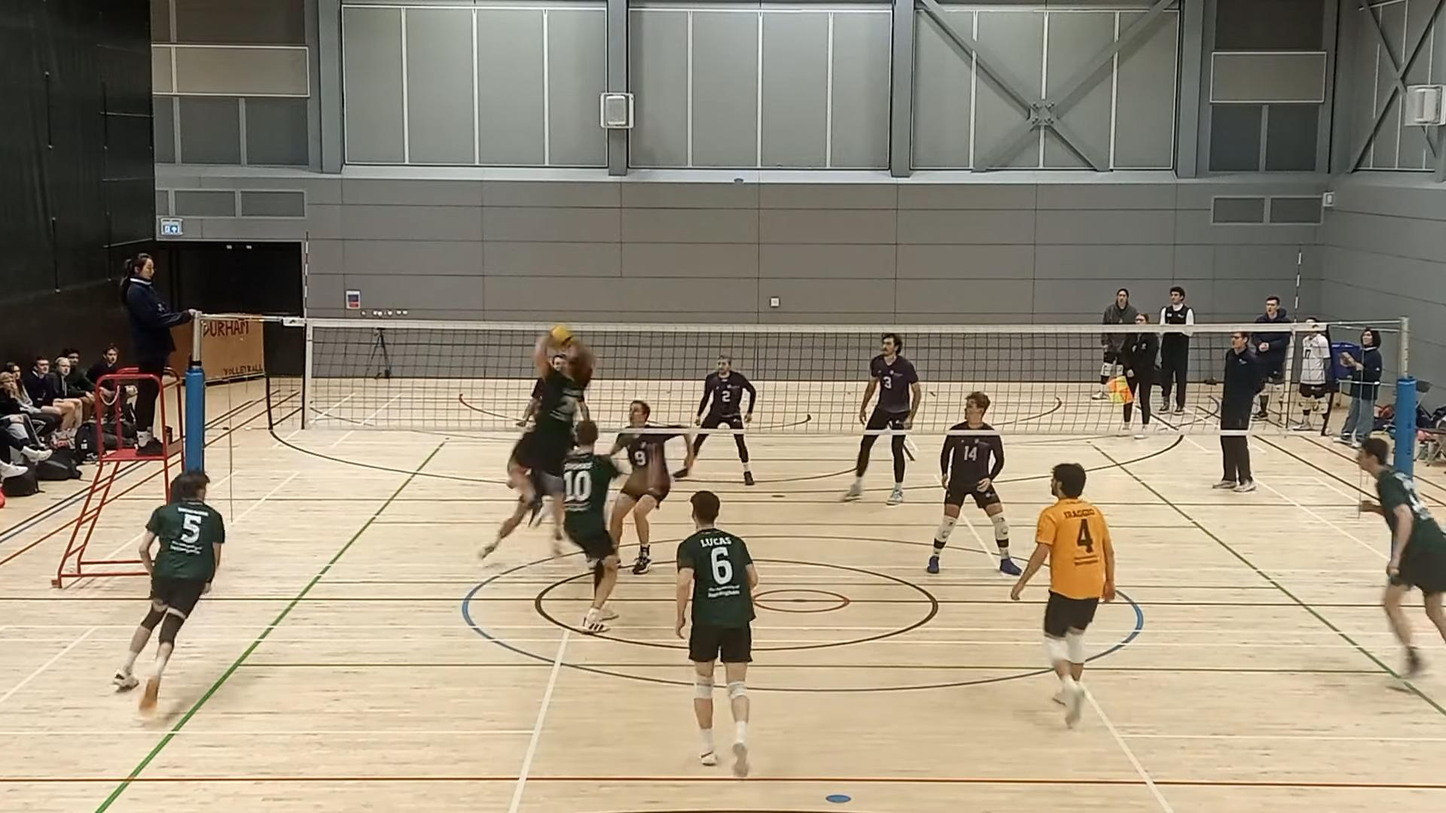Player: (1011, 463, 1115, 726), (114, 471, 224, 713), (675, 491, 758, 776), (1358, 438, 1445, 678), (927, 391, 1020, 575), (609, 400, 694, 574), (844, 333, 921, 499), (563, 420, 620, 634), (695, 354, 756, 486), (516, 376, 545, 427)
Set: (510, 330, 597, 542)
ball: (545, 325, 578, 345), (1330, 395, 1355, 411)
